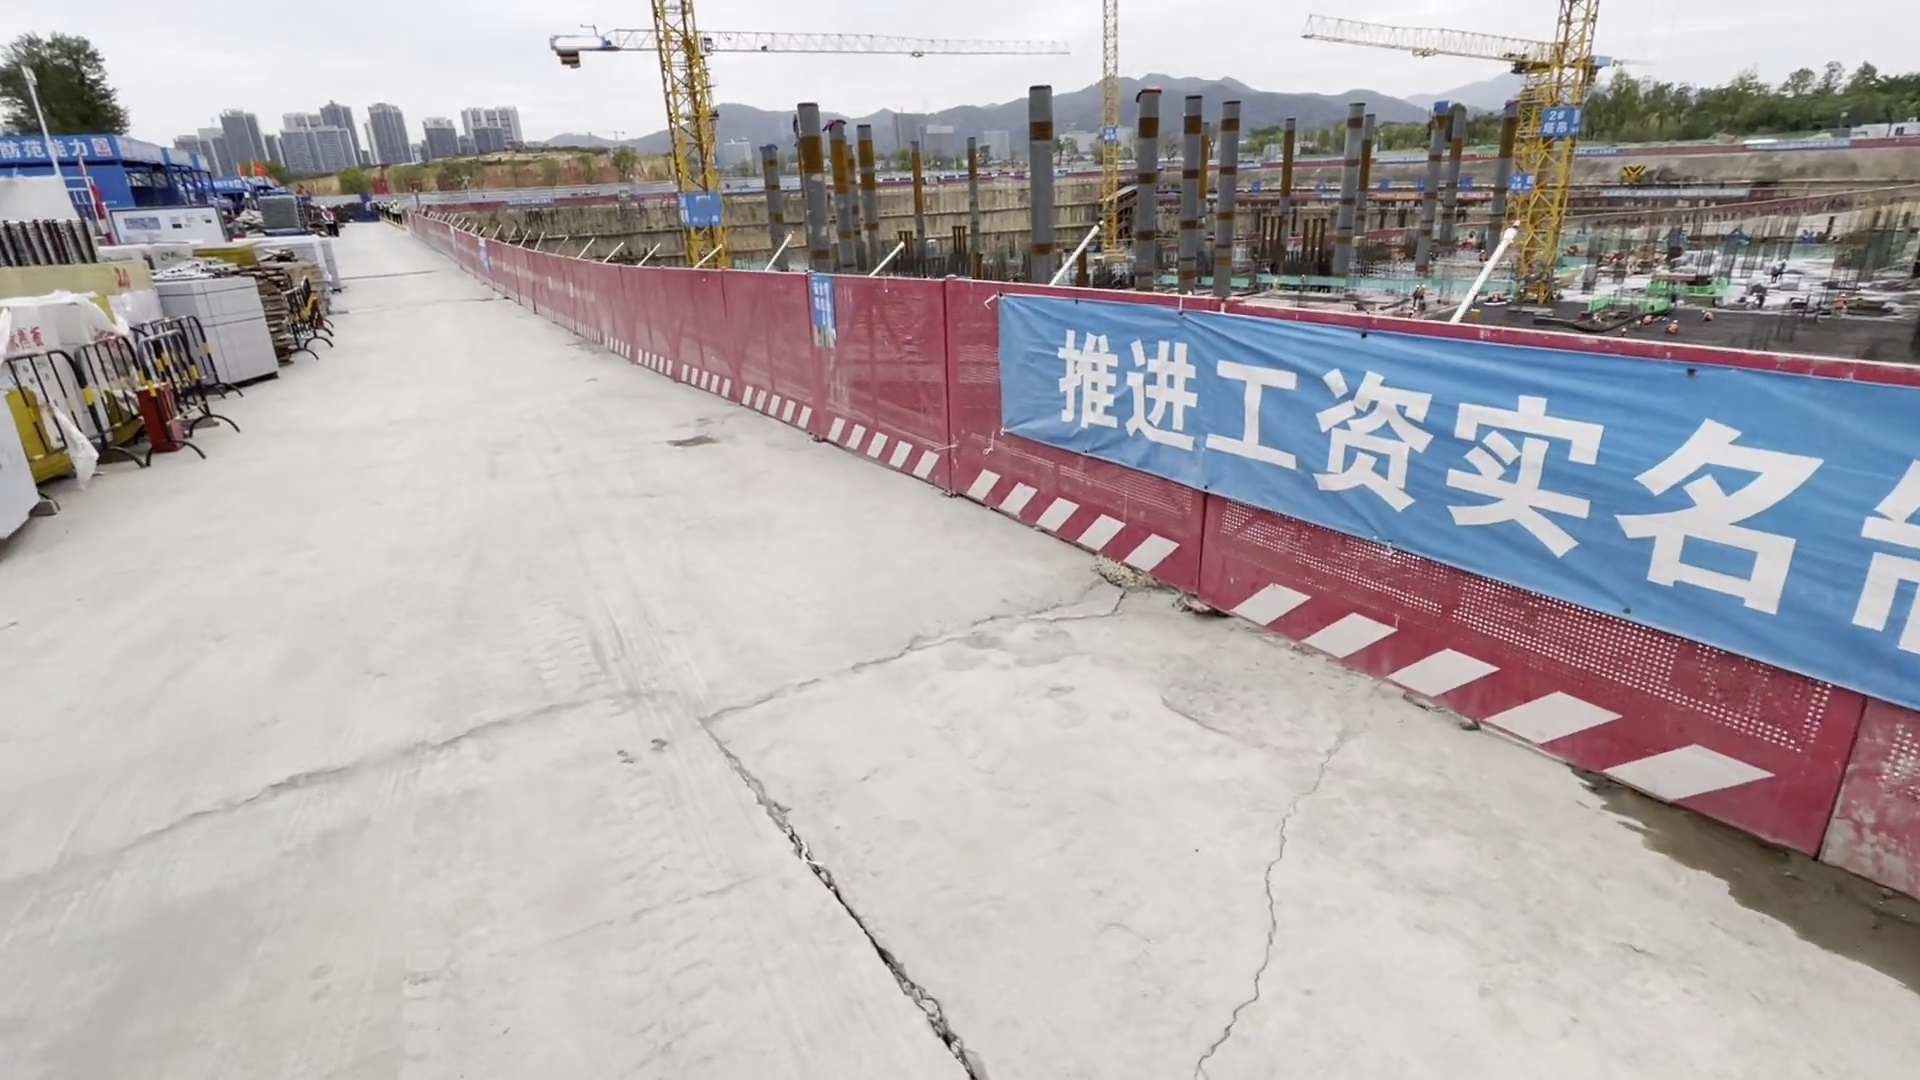brick: (153, 276, 280, 404)
fence: (405, 200, 996, 509)
slogan: (989, 295, 1920, 607)
